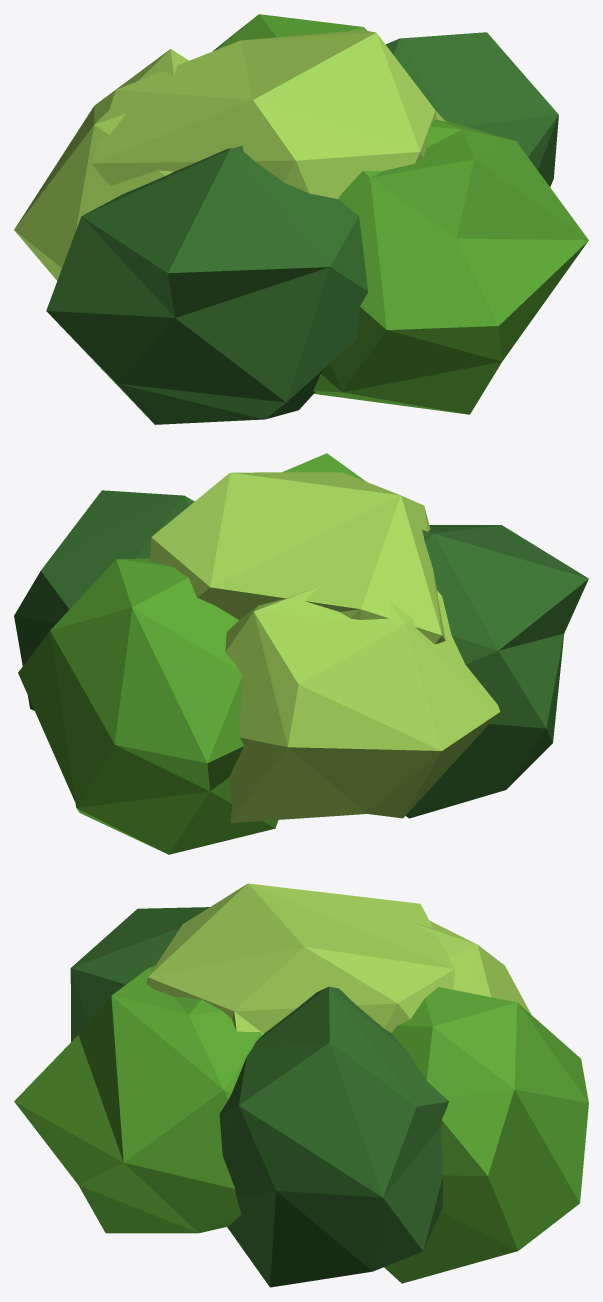
File: bush_3_lod1.glb
3 views of the same model, one above another, from view 1: azimuth 30°, elevation 25°; view 2: azimuth 150°, elevation 25°; view 3: azimuth 270°, elevation 25° (orthographic). The views are drawn at different scales.
Parts seen in each view (by area): view 1: bush_3_lod1; view 2: bush_3_lod1; view 3: bush_3_lod1.
Part boxes in pixels (box(x1,y1,x2,y2)): bush_3_lod1: box(14, 14, 588, 424); bush_3_lod1: box(14, 453, 588, 854); bush_3_lod1: box(14, 883, 588, 1287).
Bounding box in the file's own units: 2.04 × 1.24 × 2.03.
